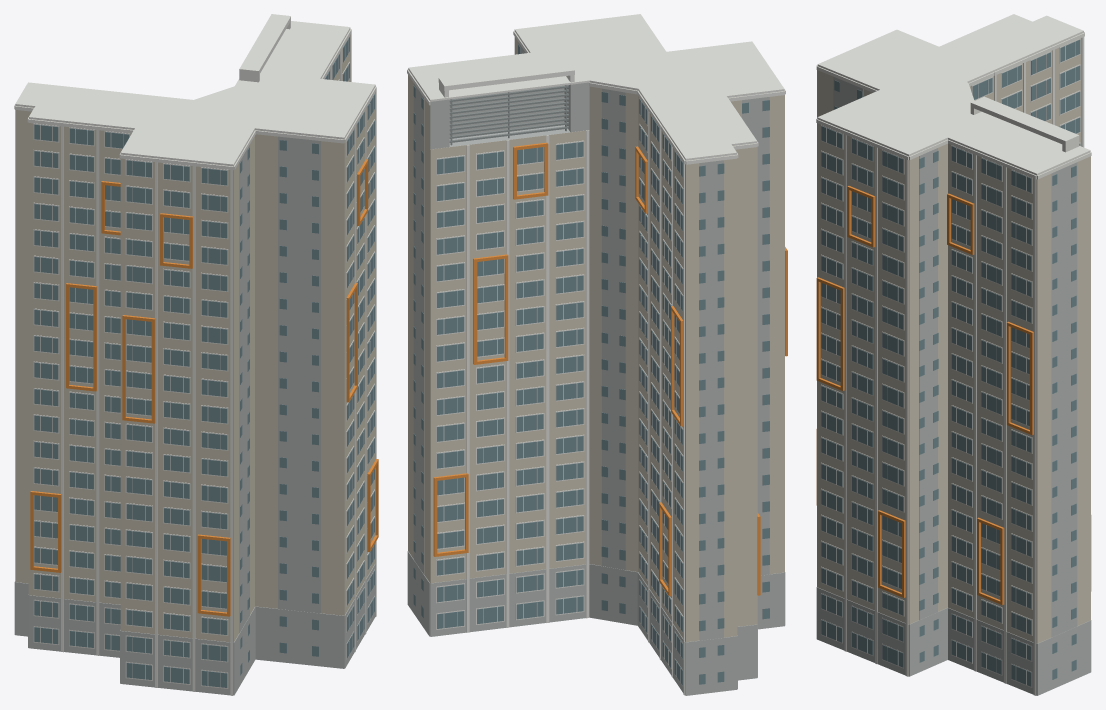
File: bespoke-dmc-parkview-xi-301.glb
3 views of the same model, side by side, from view 1: azimuth 30°, elevation 25°; view 2: azimuth 150°, elevation 25°; view 3: azimuth 270°, elevation 25° (orthographic). The views are drawn at different scales.
Parts seen in each view (by area): view 1: DMC301_editable_DMC301_warm_beige_opaque_wall004, DMC301_editable_DMC301_broad_white_facade_frames004, DMC301_editable_DMC301_turquoise_balcony_glazing004, DMC301_editable_DMC301_light_grey_solid_wall004, DMC301_editable_DMC301_orange_multi-storey_frames004; view 2: DMC301_editable_DMC301_warm_beige_opaque_wall004, DMC301_editable_DMC301_broad_white_facade_frames004, DMC301_editable_DMC301_turquoise_balcony_glazing004, DMC301_editable_DMC301_light_grey_solid_wall004, DMC301_editable_DMC301_orange_multi-storey_frames004, DMC301_editable_DMC301_grey_service_and_roof_louvers004; view 3: DMC301_editable_DMC301_warm_beige_opaque_wall004, DMC301_editable_DMC301_broad_white_facade_frames004, DMC301_editable_DMC301_turquoise_balcony_glazing004, DMC301_editable_DMC301_light_grey_solid_wall004, DMC301_editable_DMC301_orange_multi-storey_frames004.
Boxes of the visible parts, x1,y1,x2,y2 form: DMC301_editable_DMC301_warm_beige_opaque_wall004: [15, 29, 375, 642]; DMC301_editable_DMC301_broad_white_facade_frames004: [14, 14, 376, 695]; DMC301_editable_DMC301_turquoise_balcony_glazing004: [34, 36, 374, 687]; DMC301_editable_DMC301_light_grey_solid_wall004: [14, 132, 375, 695]; DMC301_editable_DMC301_orange_multi-storey_frames004: [30, 159, 378, 616]; DMC301_editable_DMC301_warm_beige_opaque_wall004: [408, 32, 784, 677]; DMC301_editable_DMC301_broad_white_facade_frames004: [407, 14, 785, 695]; DMC301_editable_DMC301_turquoise_balcony_glazing004: [413, 44, 769, 685]; DMC301_editable_DMC301_light_grey_solid_wall004: [407, 38, 785, 695]; DMC301_editable_DMC301_orange_multi-storey_frames004: [433, 142, 787, 596]; DMC301_editable_DMC301_grey_service_and_roof_louvers004: [449, 85, 568, 145]; DMC301_editable_DMC301_warm_beige_opaque_wall004: [817, 33, 1090, 695]; DMC301_editable_DMC301_broad_white_facade_frames004: [816, 14, 1091, 695]; DMC301_editable_DMC301_turquoise_balcony_glazing004: [821, 39, 1080, 686]; DMC301_editable_DMC301_light_grey_solid_wall004: [816, 73, 1091, 695]; DMC301_editable_DMC301_orange_multi-storey_frames004: [816, 186, 1091, 604].
Size of the model in its own units: 37.24 by 57.6 by 26.96.
